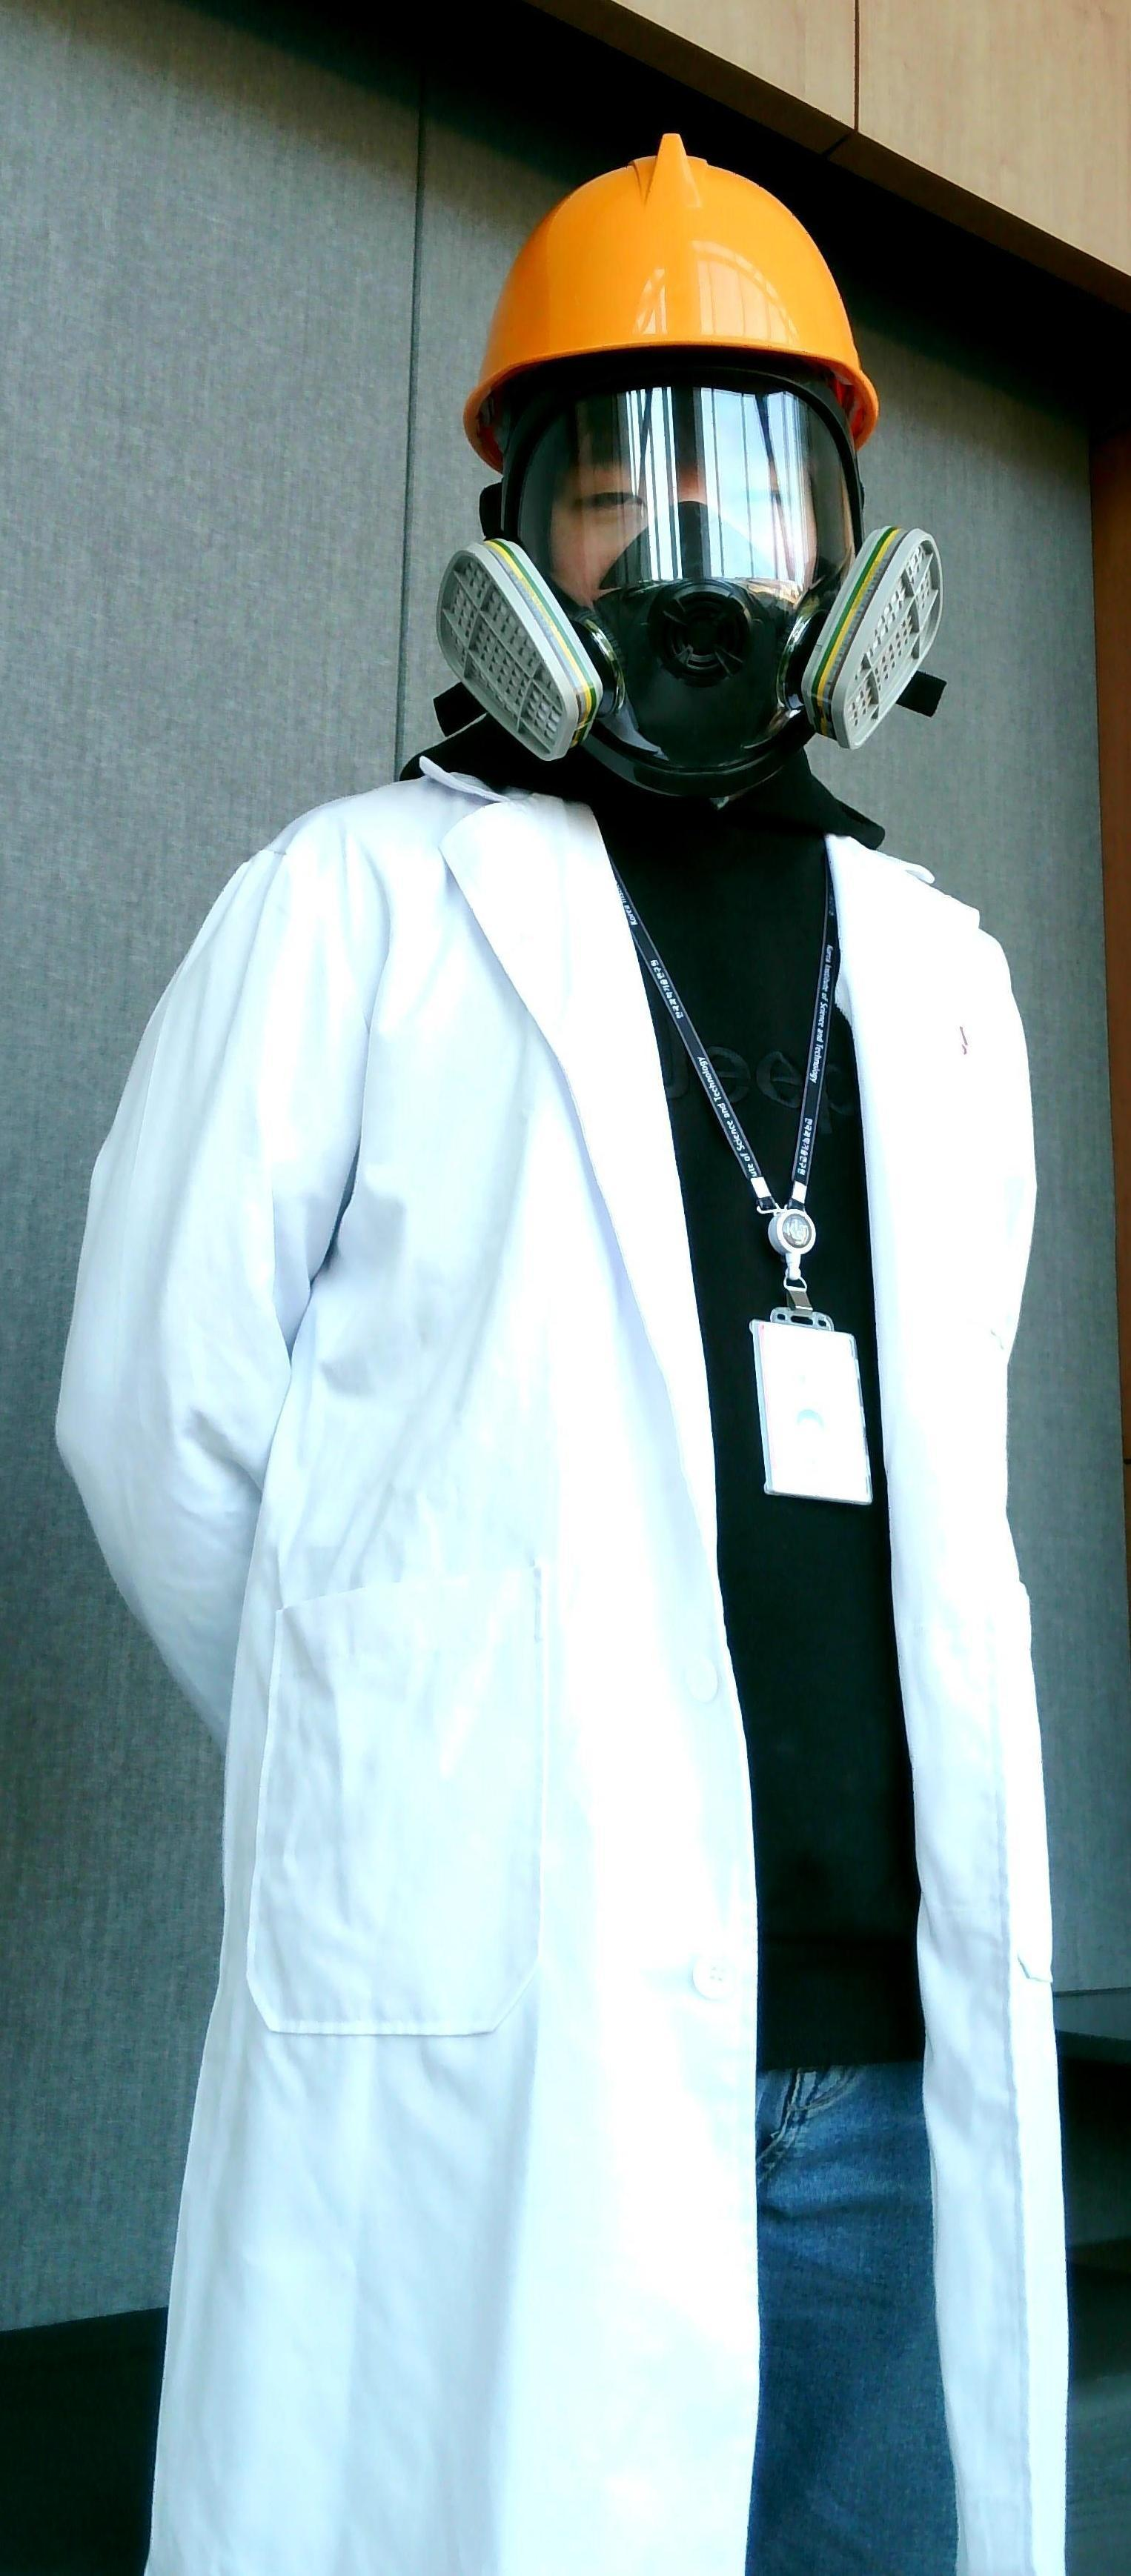lab_coat: (46, 779, 1131, 2576)
